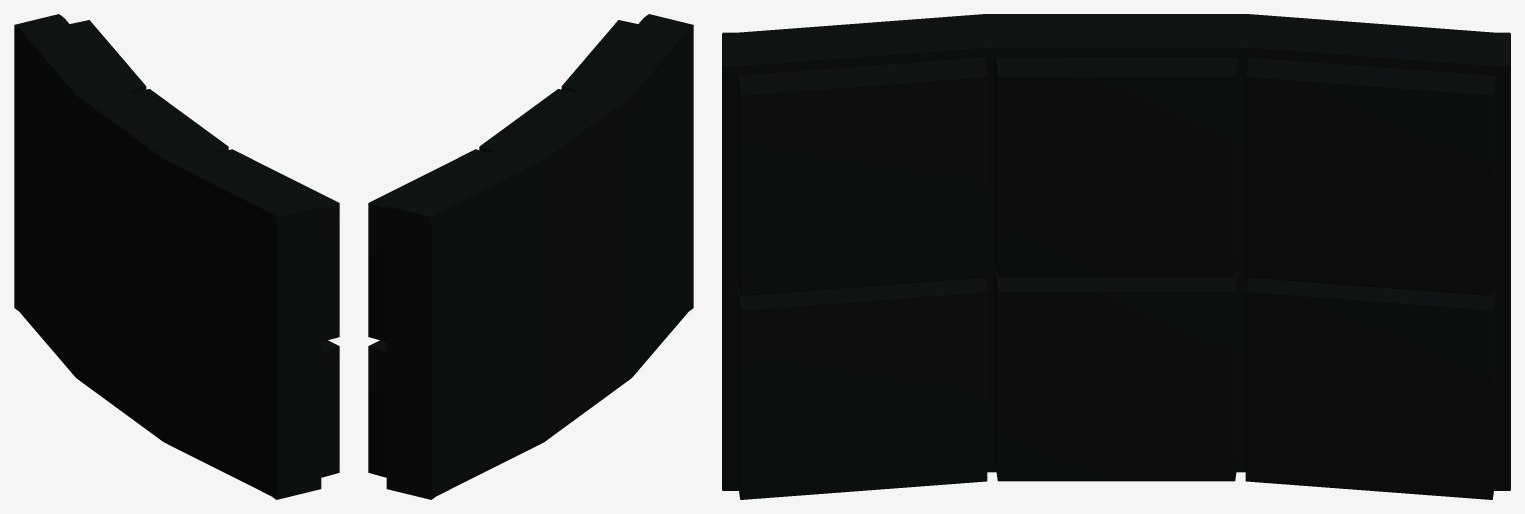
3 views of the same model, side by side, from view 1: azimuth 30°, elevation 25°; view 2: azimuth 150°, elevation 25°; view 3: azimuth 270°, elevation 25° (orthographic). The views are drawn at different scales.
Parts seen in each view (by area): view 1: Tv_Baked; view 2: Tv_Baked; view 3: Tv_Baked.
Part boxes in pixels (x1,y1,x2,y2): Tv_Baked: (14, 14, 339, 499); Tv_Baked: (368, 14, 693, 499); Tv_Baked: (722, 14, 1510, 499).
Bounding box in the file's own units: 2.37 × 6.76 × 11.35.
2 materials, 2 textured.
